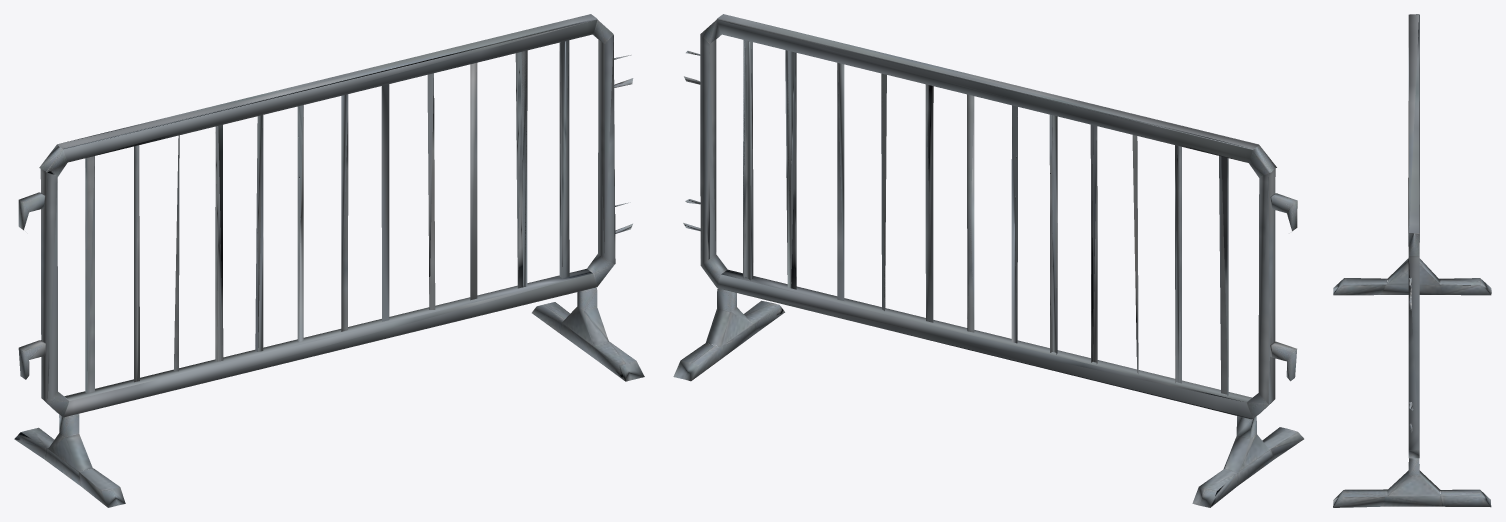
The model's file is barrier.glb.
3 views of the same model, side by side, from view 1: azimuth 30°, elevation 25°; view 2: azimuth 150°, elevation 25°; view 3: azimuth 270°, elevation 25° (orthographic). The views are drawn at different scales.
Size of the model in its own units: 0.9419 by 0.4807 by 0.2522.
Materials: 1 (1 with a texture image).
